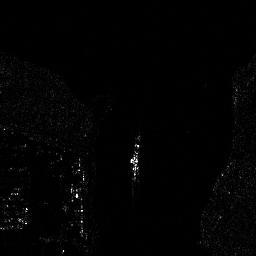ship: (130, 138, 142, 181)
